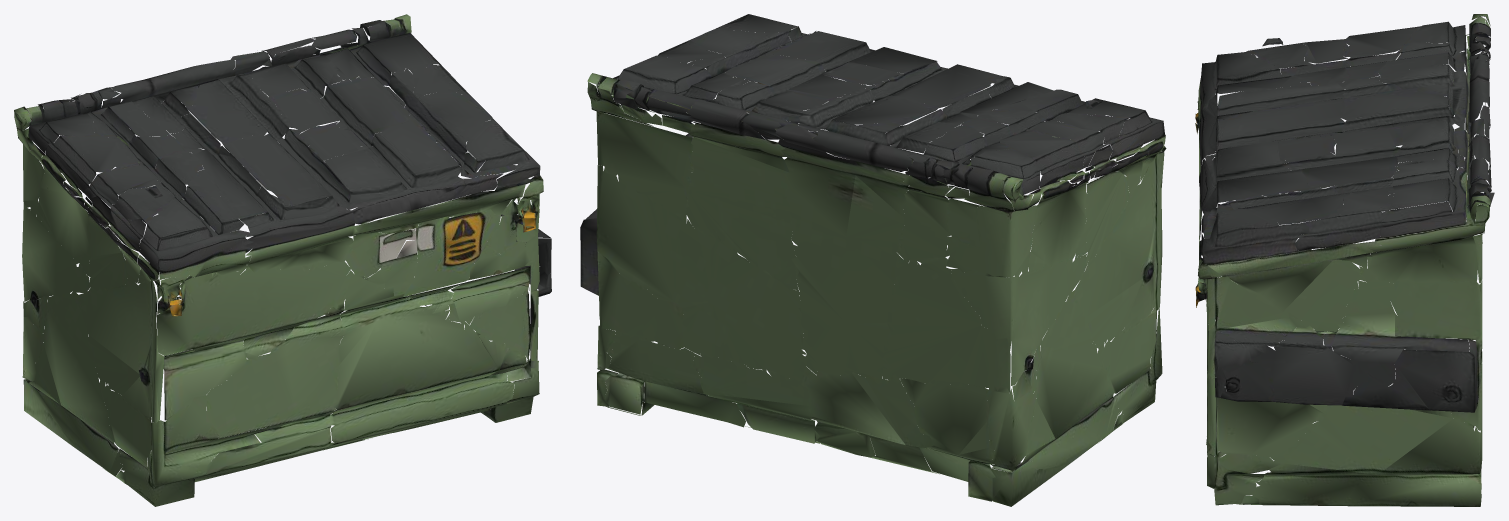
Rendered from crate.glb.
3 renders of one model, left to right at view 1: azimuth 30°, elevation 25°; view 2: azimuth 150°, elevation 25°; view 3: azimuth 270°, elevation 25°, orthographic. The views are drawn at different scales.
Parts seen in each view (by area): view 1: tripo_node_e724690d-14e9-4cb9-bc3c-e80eb7ac9f6c; view 2: tripo_node_e724690d-14e9-4cb9-bc3c-e80eb7ac9f6c; view 3: tripo_node_e724690d-14e9-4cb9-bc3c-e80eb7ac9f6c.
Part boxes in pixels (x1,y1,x2,y2): tripo_node_e724690d-14e9-4cb9-bc3c-e80eb7ac9f6c: [14, 14, 551, 506]; tripo_node_e724690d-14e9-4cb9-bc3c-e80eb7ac9f6c: [580, 14, 1166, 506]; tripo_node_e724690d-14e9-4cb9-bc3c-e80eb7ac9f6c: [1195, 14, 1494, 506].
Bounding box in the file's own units: 1 × 0.7137 × 0.6301.
1 material, 1 textured.
